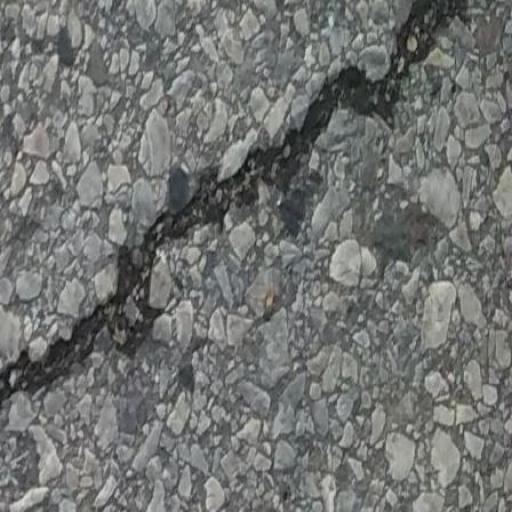spalling: (2, 0, 480, 416)
